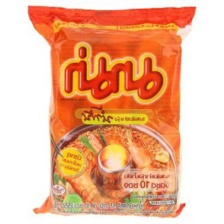snack: (21, 0, 205, 224)
